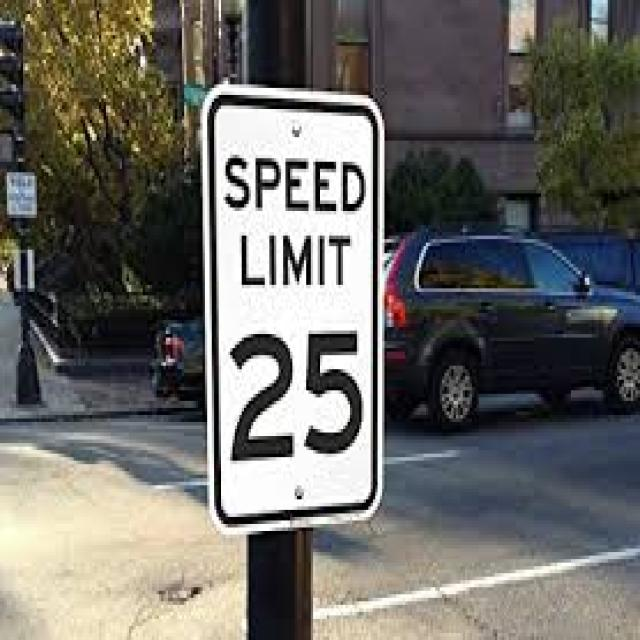speedLimit25: (201, 91, 381, 514)
